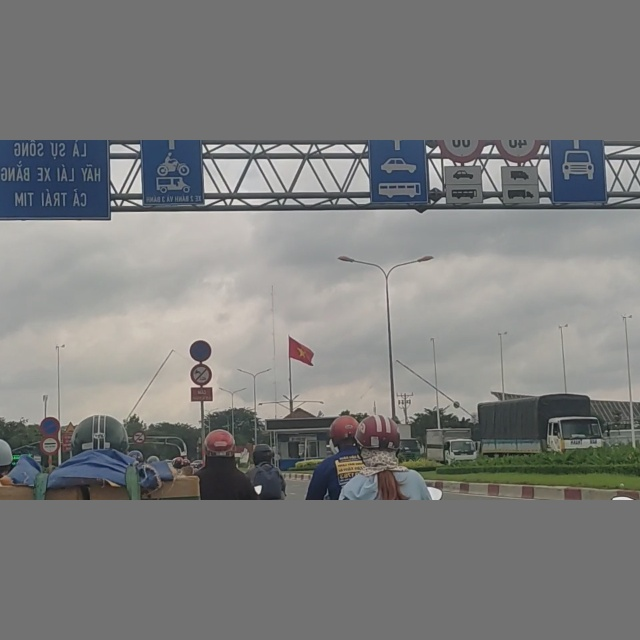P.107: (133, 431, 145, 443)
P.111: (190, 363, 213, 386)
P.129: (39, 436, 60, 454)
P.130: (189, 340, 213, 362)
P.131a: (40, 417, 60, 435)
W.221b: (63, 421, 75, 435)
